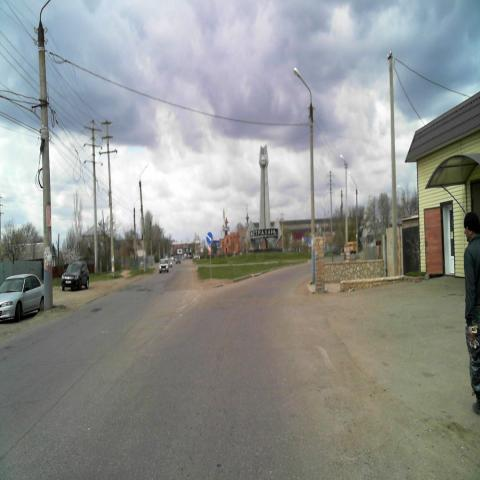4_2_1: (206, 232, 214, 244)
